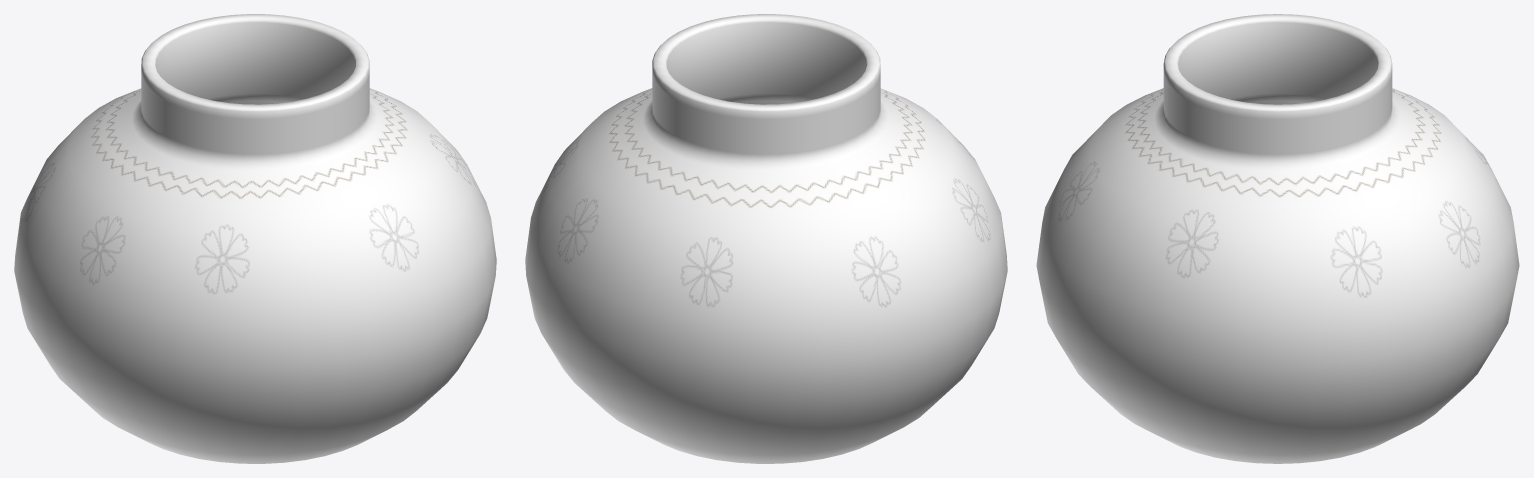
The picture shows the model from 3 angles, left to right: view 1: azimuth 30°, elevation 25°; view 2: azimuth 150°, elevation 25°; view 3: azimuth 270°, elevation 25°; orthographic projection.
Visible parts, largest first — view 1: 对象001; view 2: 对象001; view 3: 对象001.
Boxes of the visible parts, x1,y1,x2,y2 form: 对象001: (14, 14, 496, 463); 对象001: (525, 14, 1007, 463); 对象001: (1036, 14, 1519, 463).
Bounding box in the file's own units: 68.19 × 55.39 × 68.19.
Materials: 1 (1 with a texture image).
